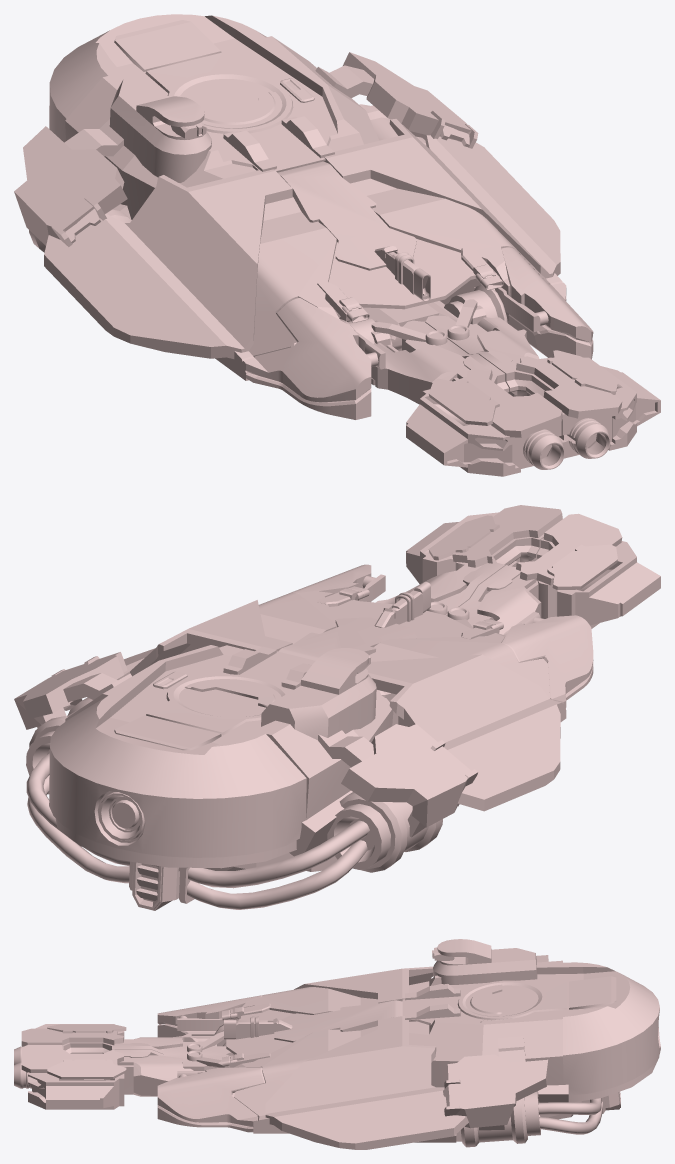
Rendered from FinDisraptor.fbx.
3 views of the same model, one above another, from view 1: azimuth 30°, elevation 25°; view 2: azimuth 150°, elevation 25°; view 3: azimuth 270°, elevation 25° (orthographic). The views are drawn at different scales.
Parts seen in each view (by area): view 1: DisraptorTower, DisraptorGun; view 2: DisraptorTower, DisraptorGun; view 3: DisraptorTower, DisraptorGun.
Boxes of the visible parts, box(x1,y1,x2,y2) form: DisraptorTower: box(14, 14, 593, 419); DisraptorGun: box(340, 284, 660, 476); DisraptorTower: box(14, 564, 593, 910); DisraptorGun: box(376, 505, 660, 634); DisraptorTower: box(157, 939, 660, 1149); DisraptorGun: box(14, 1020, 237, 1109).
Size of the model in its own units: 344 by 144 by 619.
